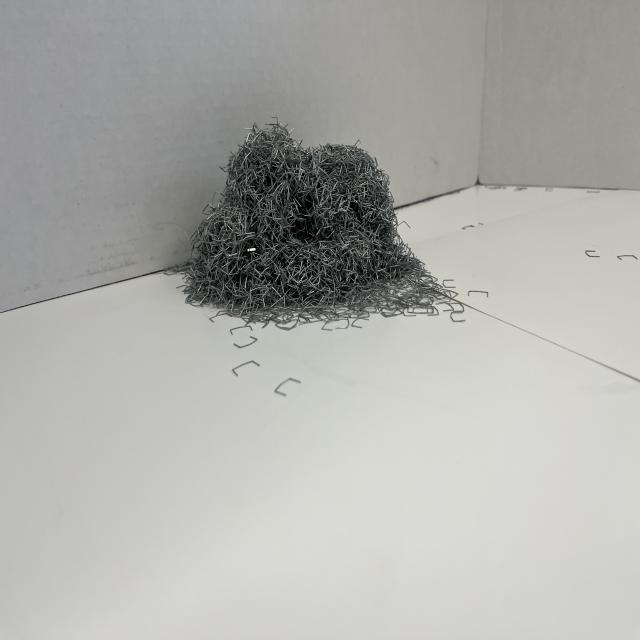staples: (179, 116, 464, 327)
